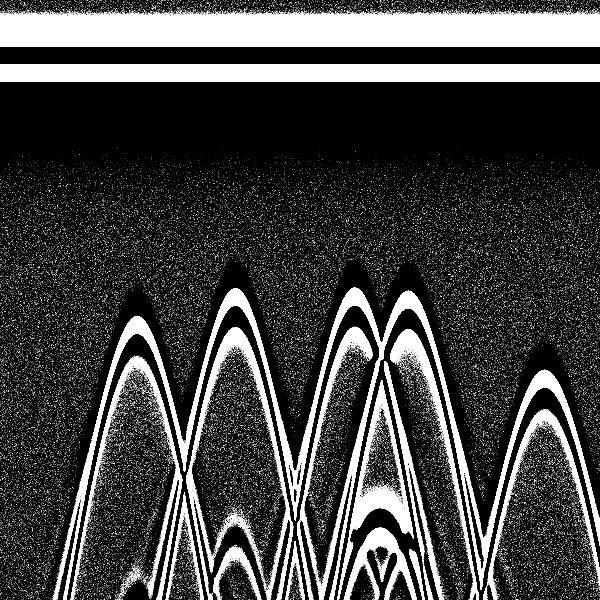pipe: (502, 6, 587, 438), (186, 3, 283, 379), (90, 5, 177, 392), (310, 3, 397, 375), (366, 4, 450, 371)
